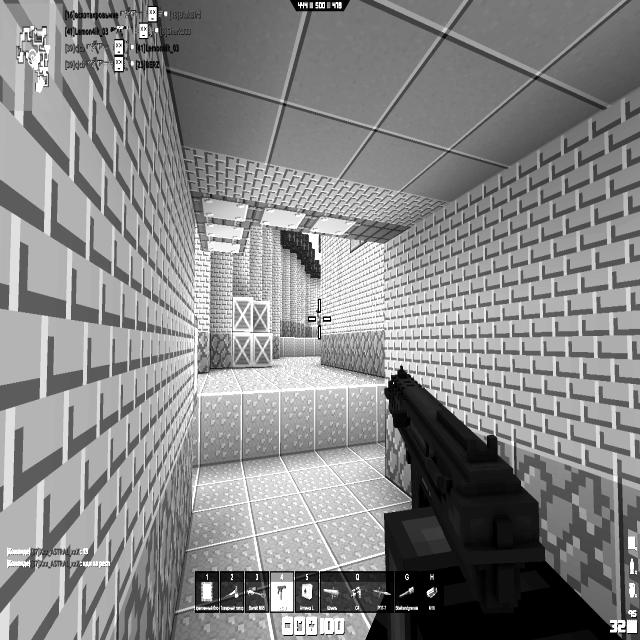Head: (316, 308, 321, 317)
Player: (316, 309, 321, 338)
